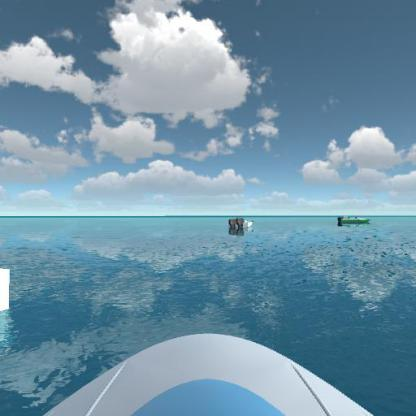usv0: (337, 212, 373, 230)
usv1: (226, 214, 258, 234)
